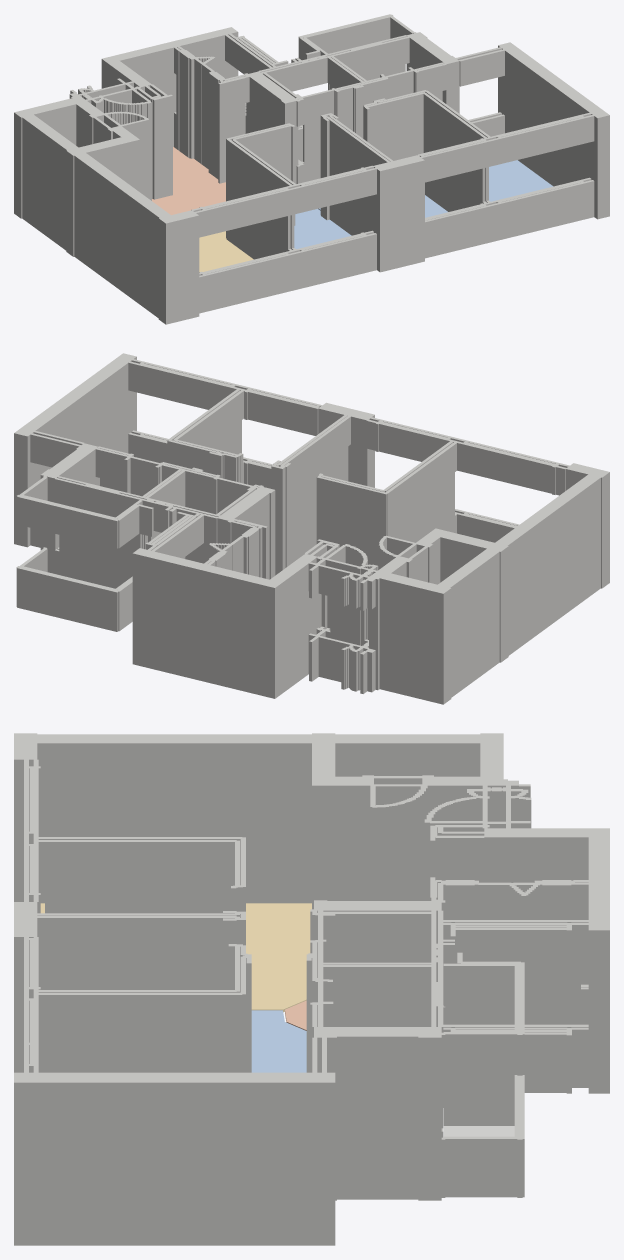
The picture shows the model from 3 angles, top to bottom: view 1: azimuth 30°, elevation 25°; view 2: azimuth 150°, elevation 25°; view 3: azimuth 270°, elevation 25°; orthographic projection. The views are drawn at different scales.
Parts seen in each view (by area): view 1: walls, room:kitchen:0, room:bedroom:9, room:bedroom:7, room:living:6; view 2: walls; view 3: walls, room:living:6, room:bedroom:7, room:ledge:3.
Part boxes in pixels (x1=…): walls: x1=14, y1=14, x2=609, y2=324; room:kitchen:0: x1=152, y1=147, x2=225, y2=215; room:bedroom:9: x1=489, y1=160, x2=553, y2=201; room:bedroom:7: x1=294, y1=209, x2=351, y2=248; room:living:6: x1=199, y1=231, x2=253, y2=272; walls: x1=14, y1=353, x2=609, y2=704; walls: x1=14, y1=733, x2=609, y2=1245; room:living:6: x1=40, y1=903, x2=311, y2=1012; room:bedroom:7: x1=251, y1=1010, x2=306, y2=1072; room:ledge:3: x1=443, y1=1126, x2=514, y2=1136.
Bounding box in the file's own units: 12.86 × 2.8 × 9.28.
